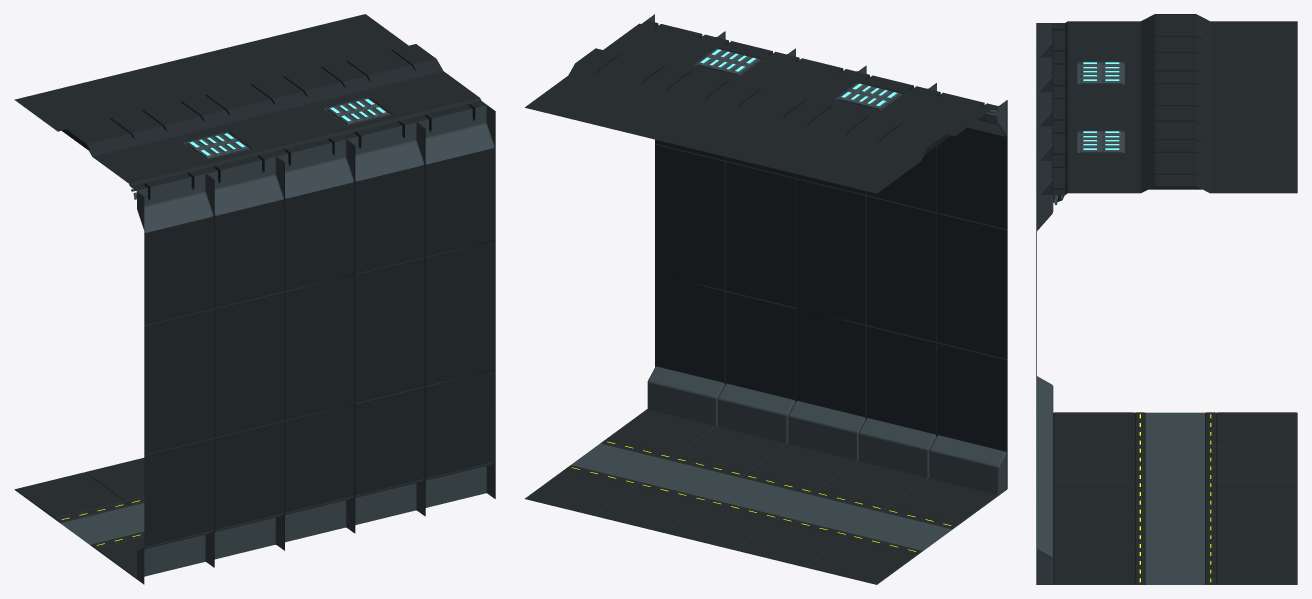
File: hallCSide02.fbx
3 views of the same model, side by side, from view 1: azimuth 30°, elevation 25°; view 2: azimuth 150°, elevation 25°; view 3: azimuth 270°, elevation 25° (orthographic).
Visible parts, largest first — view 1: hallCSide02; view 2: hallCSide02; view 3: hallCSide02.
Part boxes in pixels (left/top/right/bottom): hallCSide02: left=14, top=14, right=495, bottom=584; hallCSide02: left=525, top=14, right=1007, bottom=584; hallCSide02: left=1036, top=14, right=1297, bottom=584.
Size of what is drawn, in the model's own units: 10 by 6.42 by 10.8.
